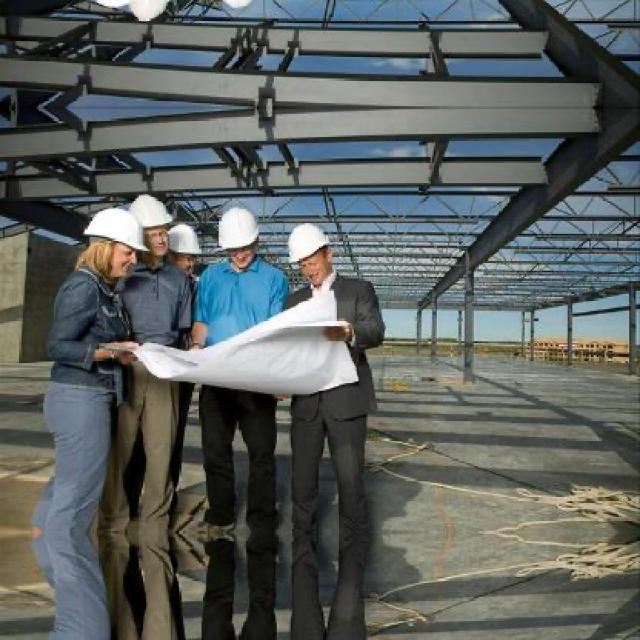helmet: (80, 206, 143, 274), (288, 220, 334, 286), (215, 205, 260, 266), (130, 191, 172, 255), (165, 222, 200, 270), (128, 0, 172, 23)
